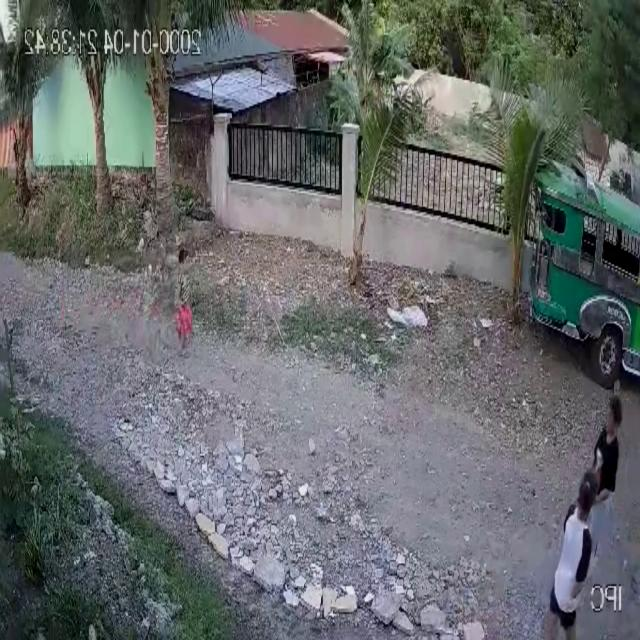running: (170, 236, 206, 364)
walking: (577, 396, 635, 608), (536, 473, 600, 640), (10, 126, 20, 190)
